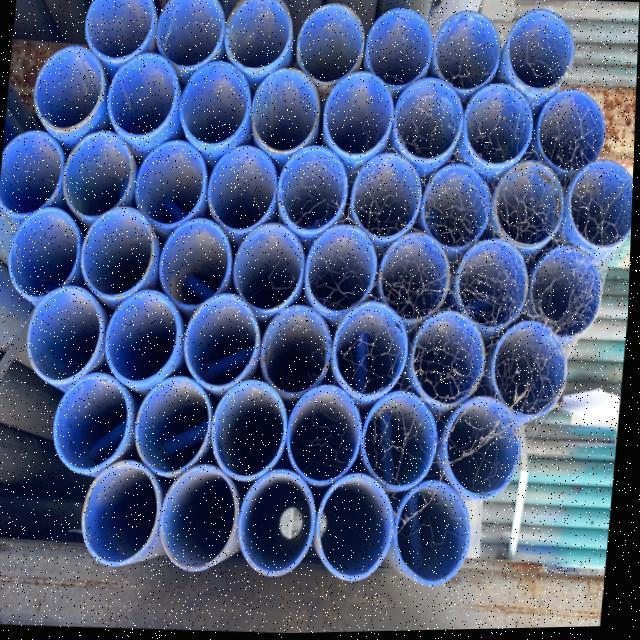pipe: (432, 388, 538, 513), (482, 315, 588, 431), (236, 462, 324, 582), (82, 453, 170, 573), (318, 470, 406, 589), (394, 478, 483, 594), (158, 459, 245, 576), (408, 304, 494, 416), (524, 241, 616, 343), (24, 279, 110, 388), (210, 375, 294, 486), (332, 294, 416, 405), (132, 372, 216, 482), (54, 366, 138, 476), (363, 386, 448, 493), (104, 286, 188, 394), (180, 291, 266, 396), (286, 381, 368, 489), (4, 200, 87, 306), (78, 202, 162, 305), (230, 218, 312, 318), (156, 214, 238, 313), (347, 146, 429, 244), (455, 232, 537, 330), (462, 76, 540, 179), (246, 62, 326, 162), (320, 66, 400, 166), (304, 218, 384, 318), (426, 1, 510, 96), (61, 123, 140, 224), (104, 46, 185, 144), (258, 301, 338, 400), (204, 139, 284, 238), (500, 3, 580, 102), (274, 142, 356, 238), (132, 134, 212, 232), (30, 38, 110, 136), (178, 55, 256, 154), (532, 82, 614, 176), (563, 153, 635, 260), (491, 157, 568, 256), (392, 71, 468, 171), (420, 158, 497, 254), (292, 0, 372, 92), (364, 0, 440, 92), (378, 224, 456, 311), (0, 122, 68, 220), (220, 0, 296, 78), (153, 0, 227, 73), (80, 0, 158, 66)
